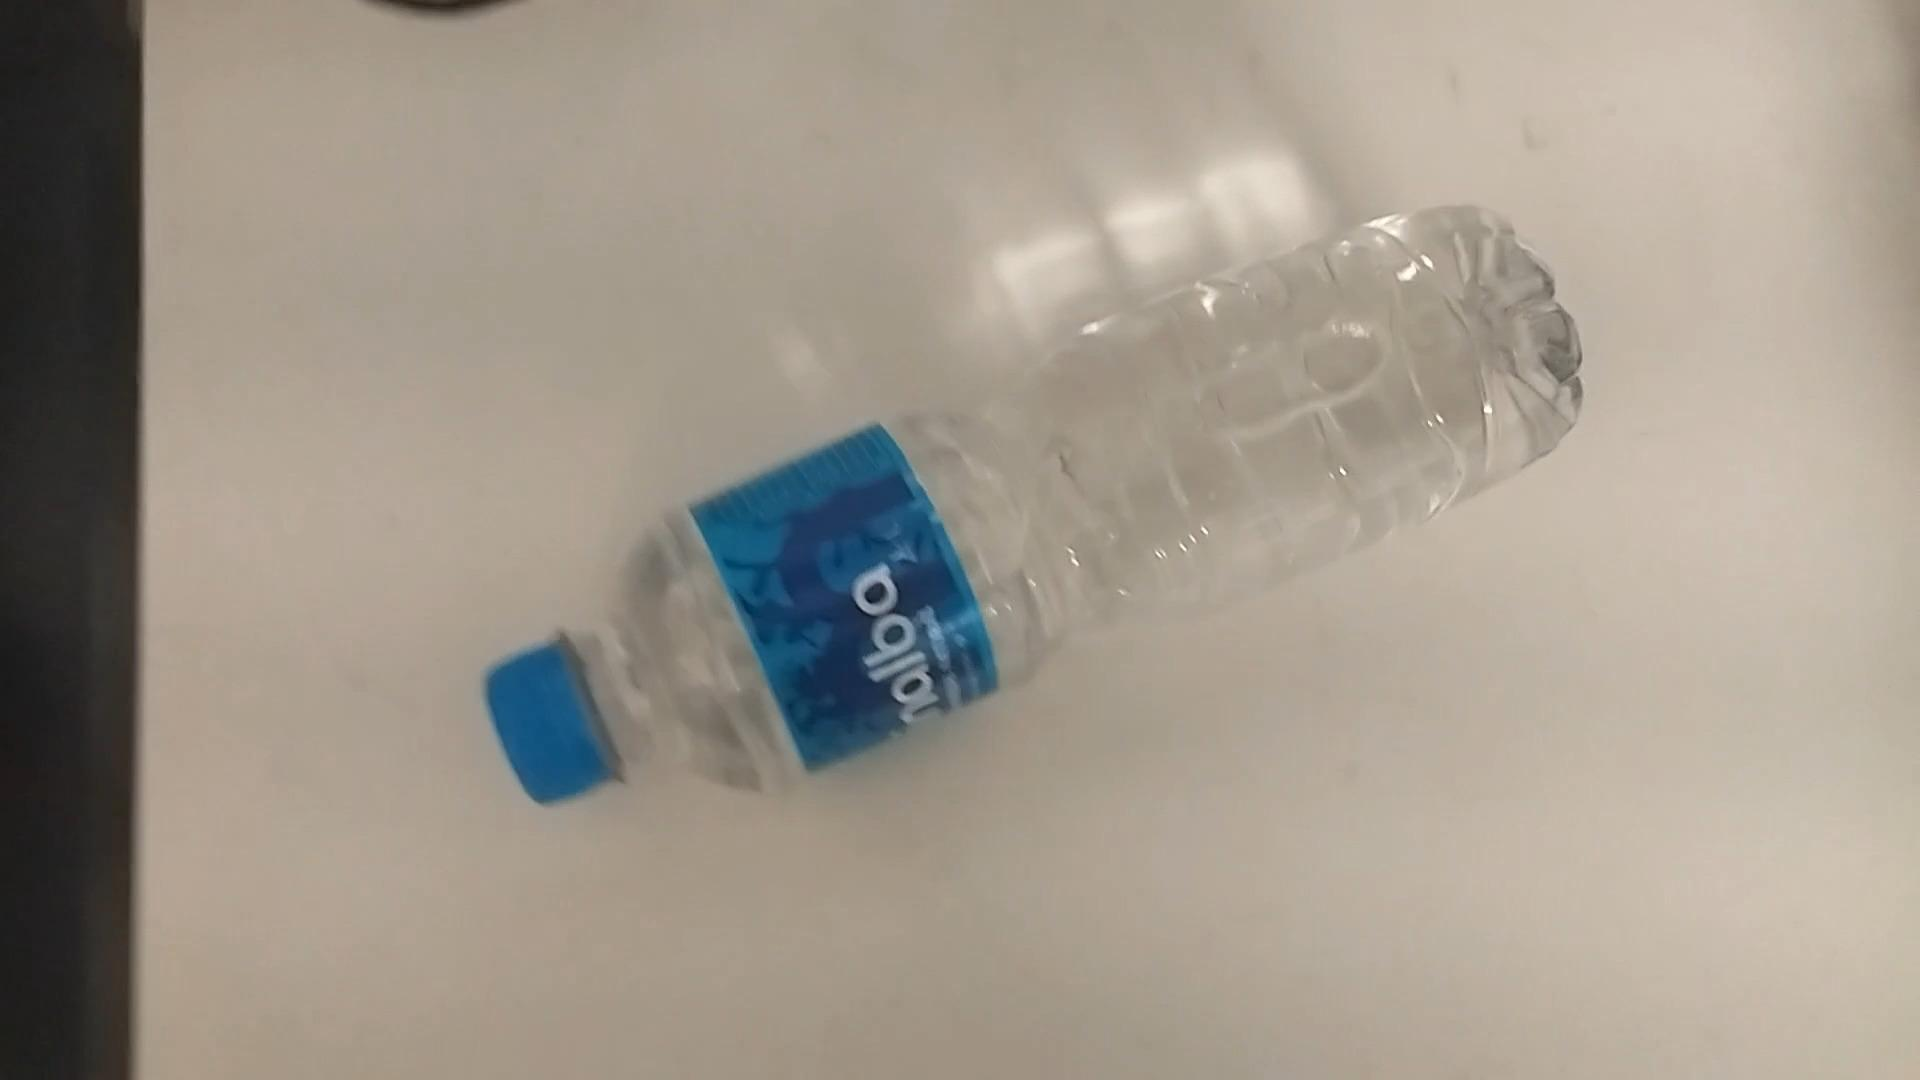agua: (484, 207, 1557, 812)
